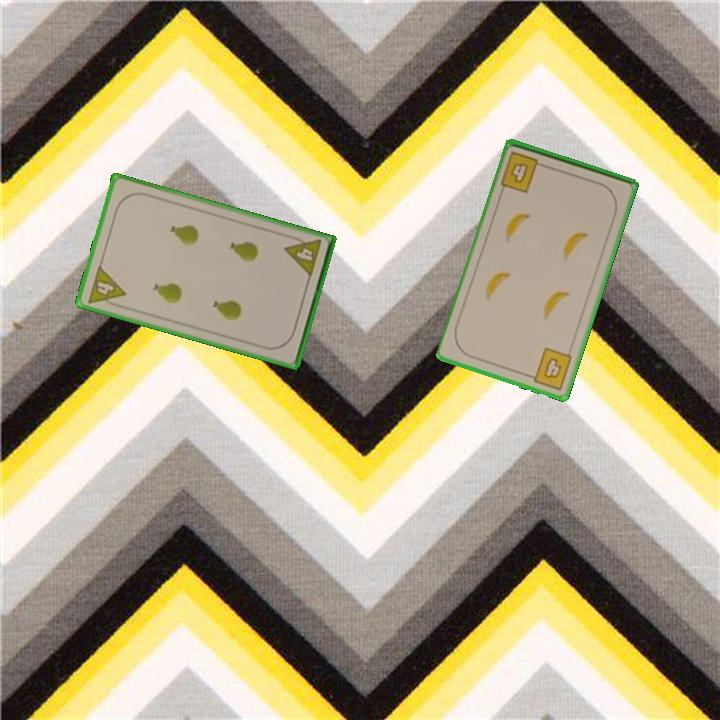4b: (524, 344, 575, 393), (497, 148, 549, 196)
4p: (84, 262, 129, 311), (281, 232, 324, 280)
